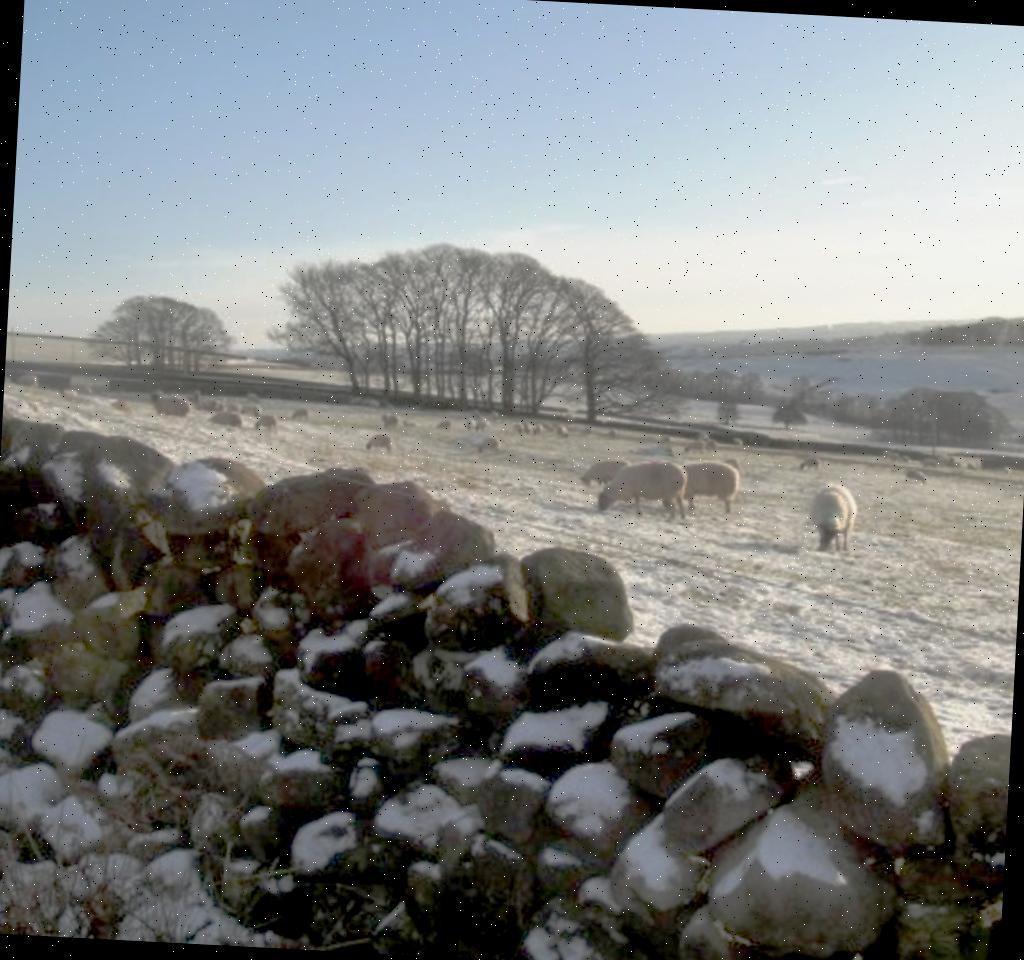Sheep: (590, 456, 692, 526), (664, 455, 742, 520), (807, 479, 860, 551), (580, 450, 631, 494), (145, 388, 191, 423), (364, 433, 402, 456), (901, 463, 931, 488), (253, 414, 284, 438), (474, 436, 504, 460), (797, 456, 824, 476)
